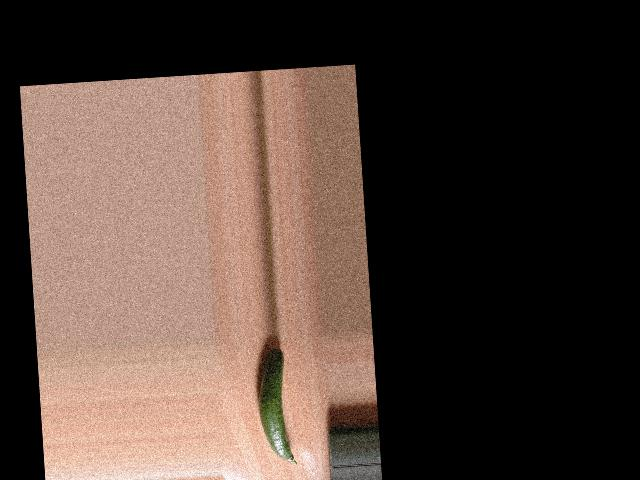cucumber: (254, 346, 296, 467)
